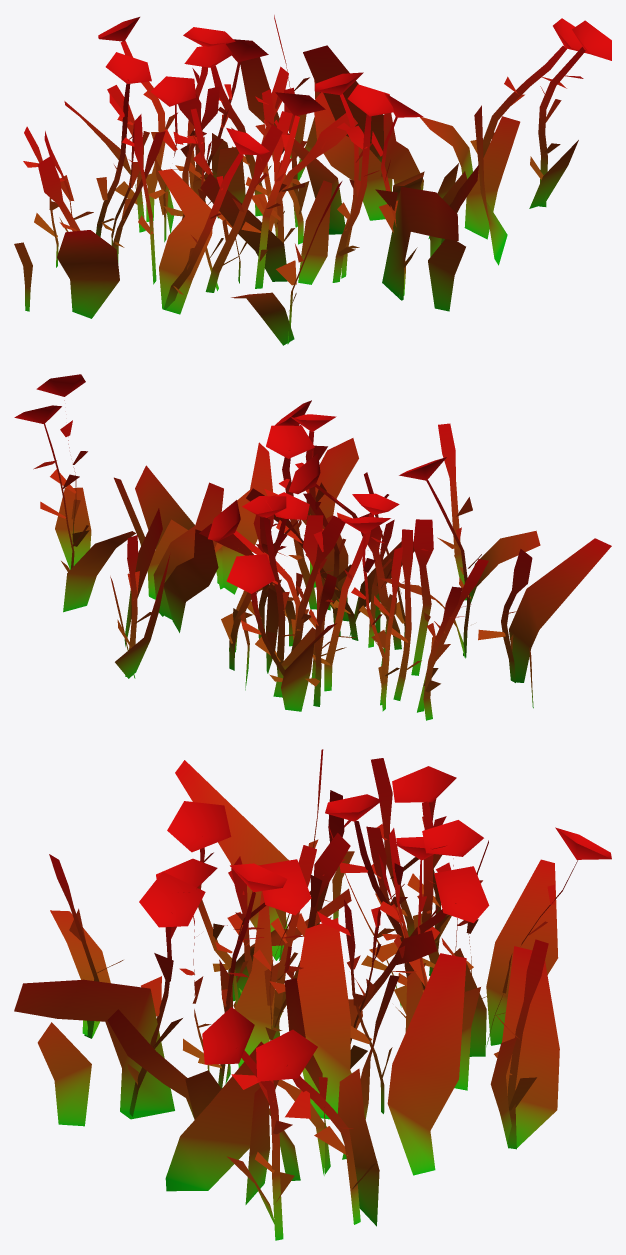
Rendered from Var11_LOD2.fbx.
3 views of the same model, one above another, from view 1: azimuth 30°, elevation 25°; view 2: azimuth 150°, elevation 25°; view 3: azimuth 270°, elevation 25° (orthographic). The views are drawn at different scales.
Visible parts, largest first — view 1: _8193_Var11_LOD2; view 2: _8193_Var11_LOD2; view 3: _8193_Var11_LOD2.
Part boxes in pixels (x1=…): _8193_Var11_LOD2: x1=14, y1=15, x2=611, y2=345; _8193_Var11_LOD2: x1=14, y1=374, x2=611, y2=720; _8193_Var11_LOD2: x1=14, y1=749, x2=611, y2=1240.
Size of the model in its own units: 26.87 by 9.11 by 19.32.
